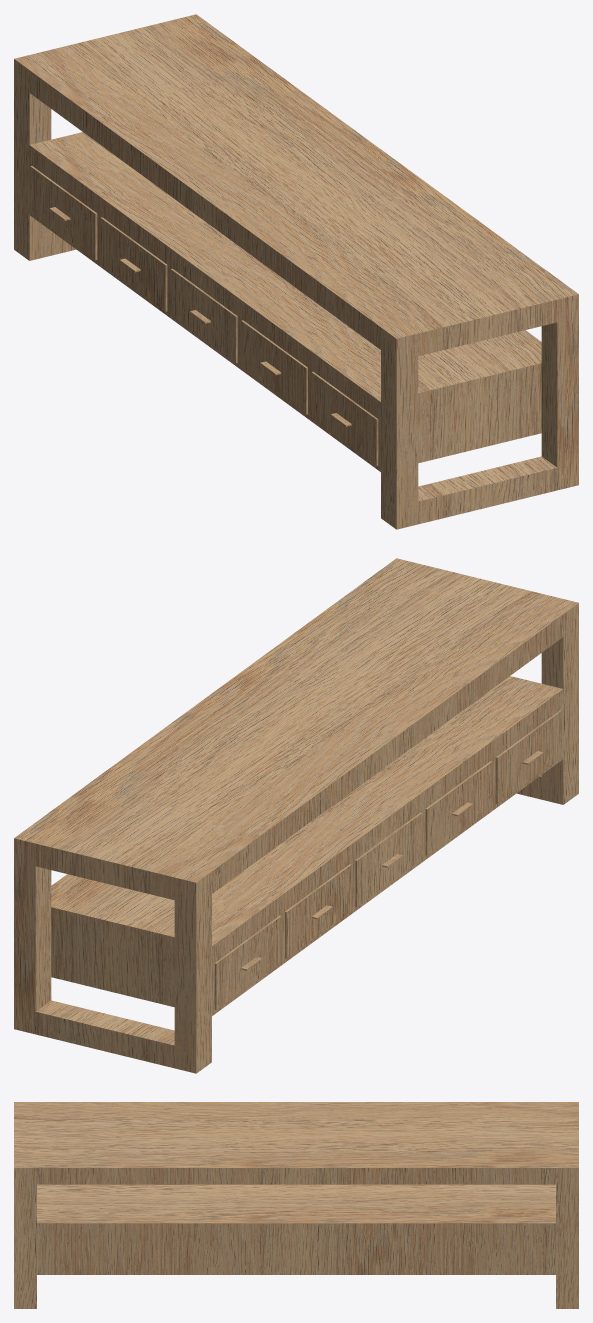
The model's file is TvMeubelModern.fbx.
3 renders of one model, top to bottom at view 1: azimuth 30°, elevation 25°; view 2: azimuth 150°, elevation 25°; view 3: azimuth 270°, elevation 25°, orthographic. The views are drawn at different scales.
Parts seen in each view (by area): view 1: Cube.004; view 2: Cube.004; view 3: Cube.004.
Part boxes in pixels (x1=…): Cube.004: x1=14, y1=14, x2=578, y2=529; Cube.004: x1=14, y1=558, x2=578, y2=1073; Cube.004: x1=14, y1=1102, x2=578, y2=1308.
Size of the model in its own units: 208 by 200 by 726.
